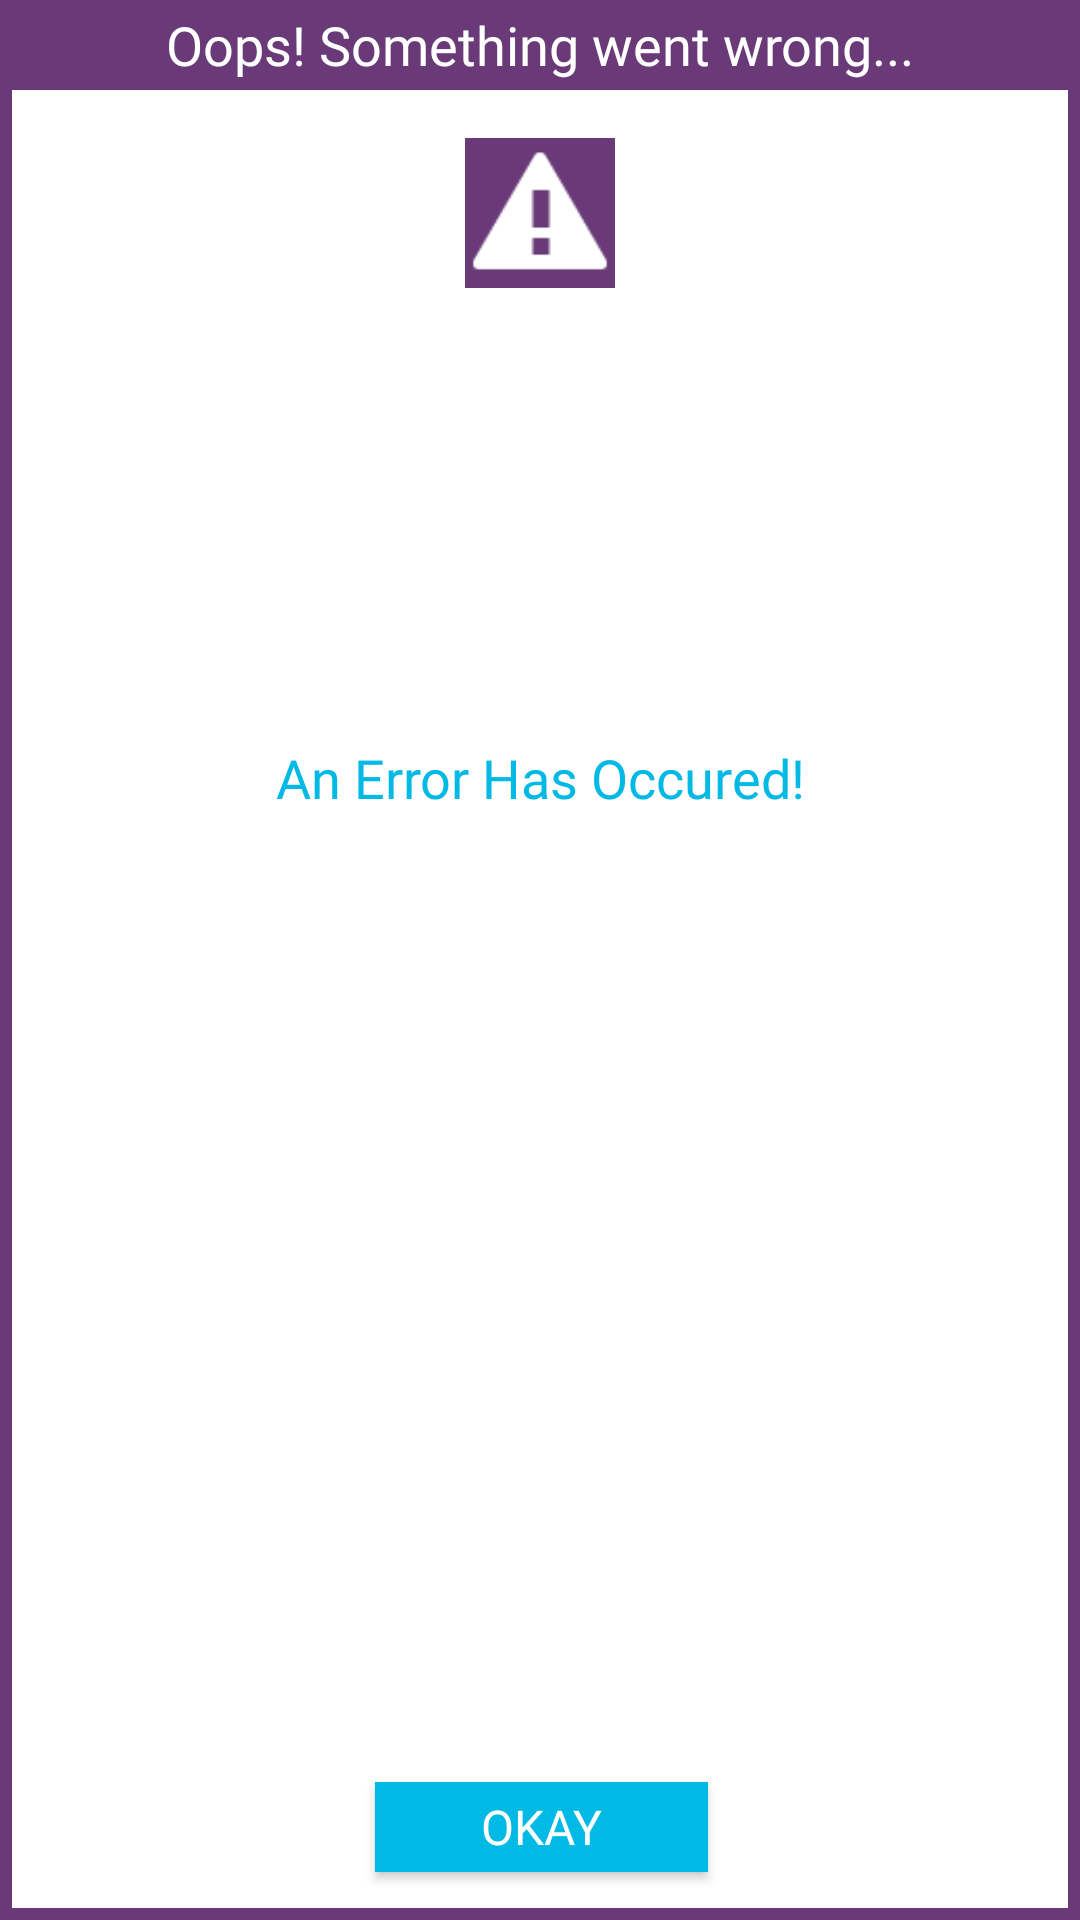

Icons on this 1080*1920 Android screen, each with the point to tap as [x,y]:
error: [540,213]
